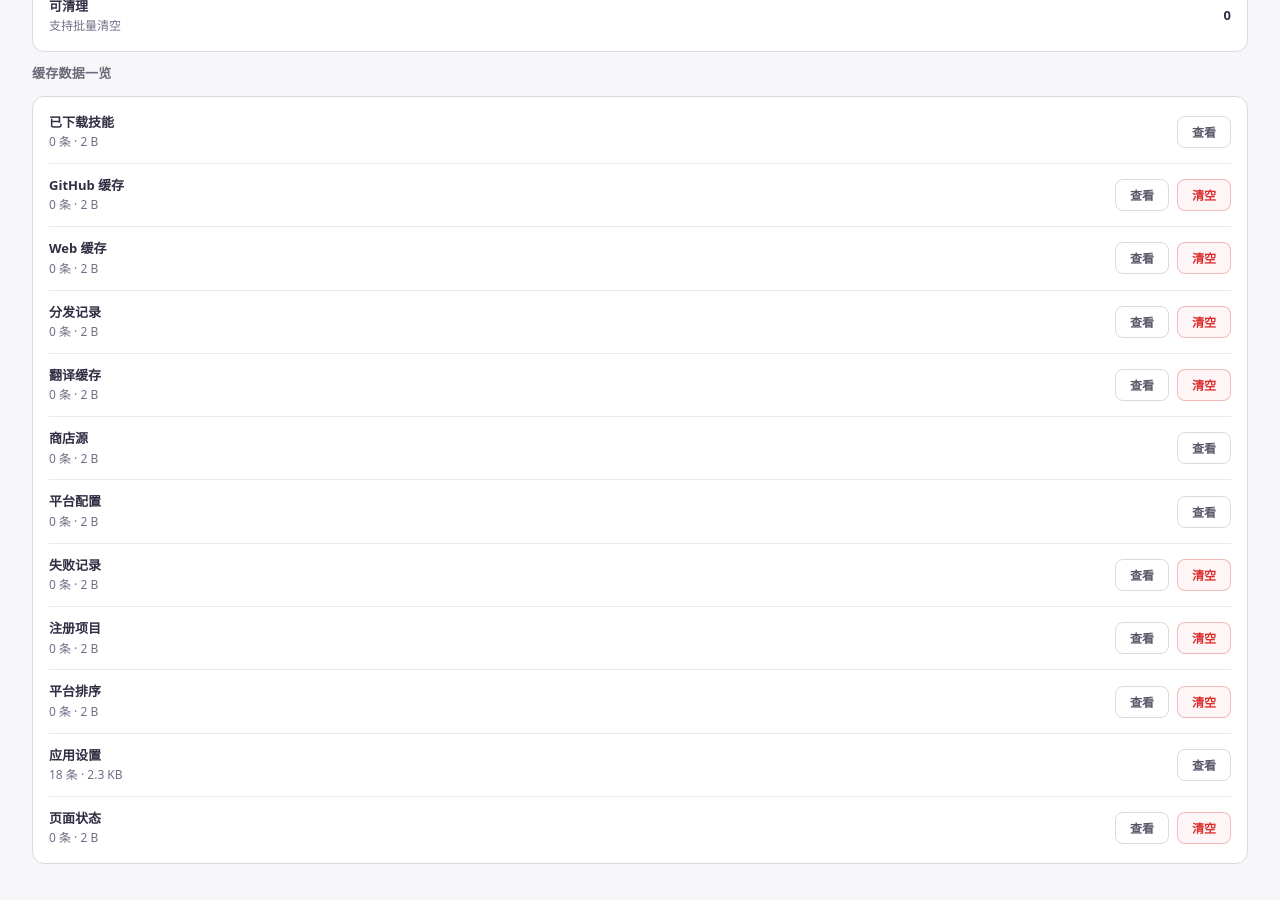
Test: 数据管理查看弹窗 › 键值数据使用可聚焦的滚动区域展示
Check: the element with class "setting-row" showing "页面状态 0 条 · 2 B 查看 清空" is shown, box [49,796,1231,847]
Click the button "查看" in the row of "页面状态".
click(1142, 828)  # box [1115,812,1169,844]
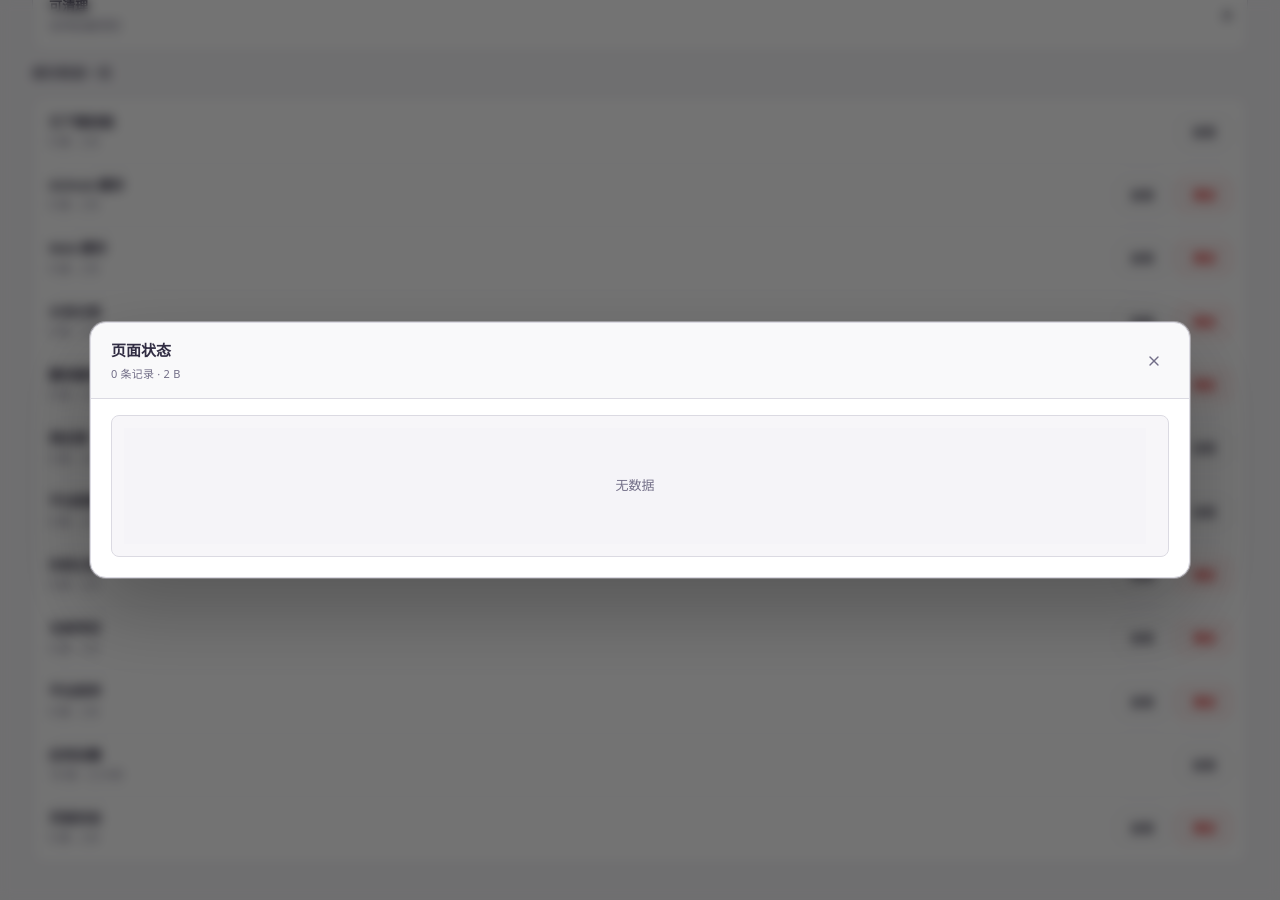
Check: the element with class "dm-kv-scroll" is shown, box [111,415,1169,557]
